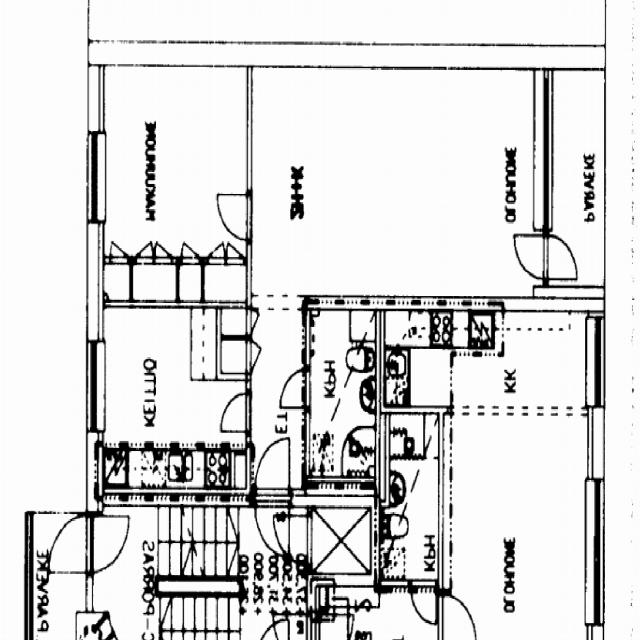door: (256, 438, 289, 506), (256, 488, 289, 556), (505, 236, 553, 280), (535, 236, 582, 280), (216, 193, 250, 240), (281, 368, 310, 407), (222, 394, 250, 431), (246, 342, 271, 372), (207, 229, 226, 263), (226, 229, 244, 263), (154, 230, 172, 262), (110, 231, 128, 263), (246, 308, 268, 334), (182, 230, 199, 262), (137, 230, 154, 262)
